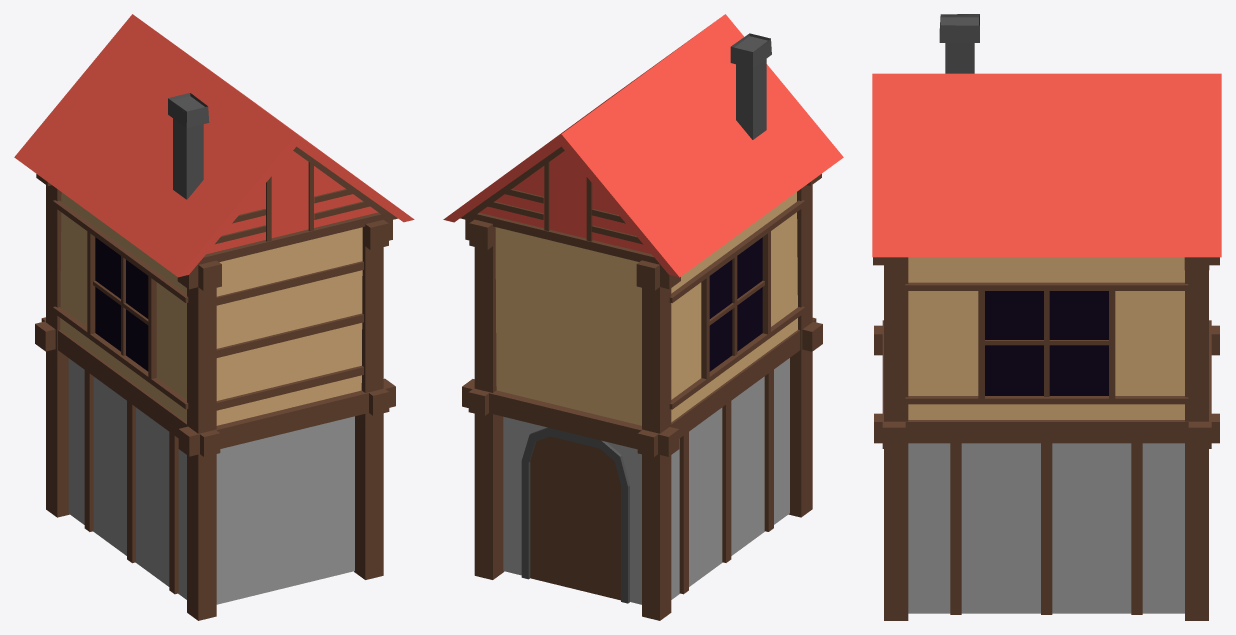
File: House_small_v1.fbx
The picture shows the model from 3 angles, left to right: view 1: azimuth 30°, elevation 25°; view 2: azimuth 150°, elevation 25°; view 3: azimuth 270°, elevation 25°; orthographic projection. The views are drawn at different scales.
Parts seen in each view (by area): view 1: House_small_v1; view 2: House_small_v1; view 3: House_small_v1.
Part boxes in pixels (<box>): House_small_v1: <box>14,14,414,620</box>; House_small_v1: <box>443,14,843,620</box>; House_small_v1: <box>872,14,1221,620</box>.
Bounding box in the file's own units: 21.27 × 41.78 × 25.54.
